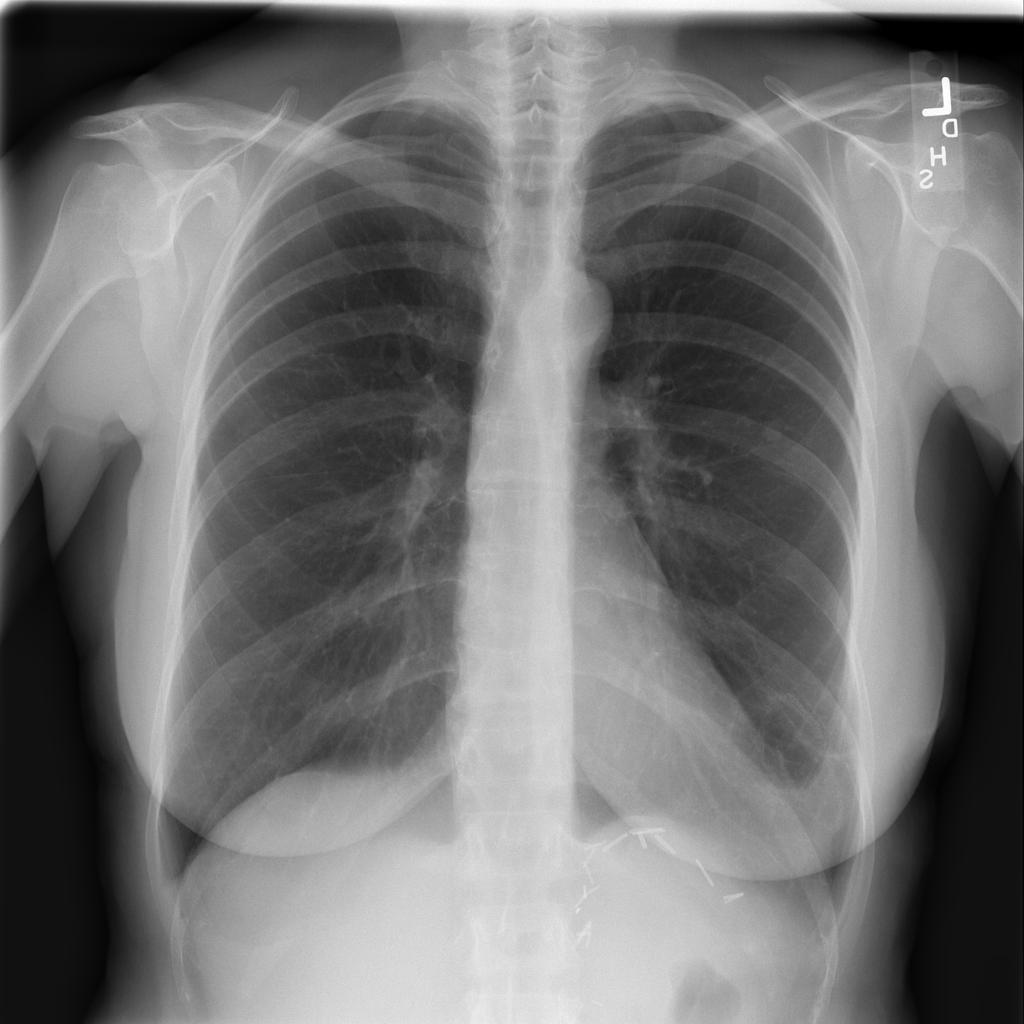nodule: (748, 405, 799, 457)
